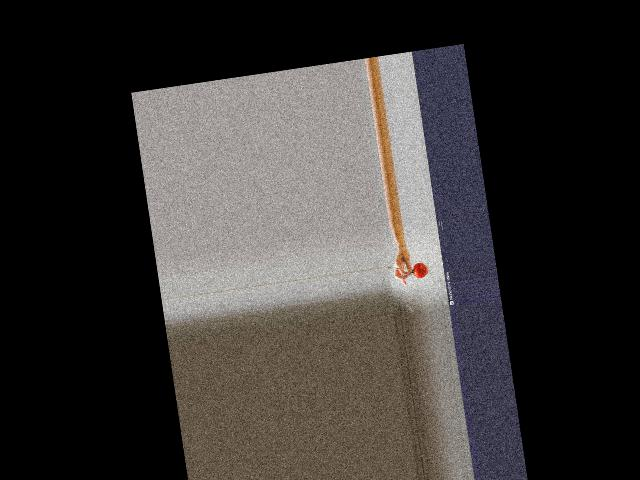tomato: (412, 260, 429, 278)
